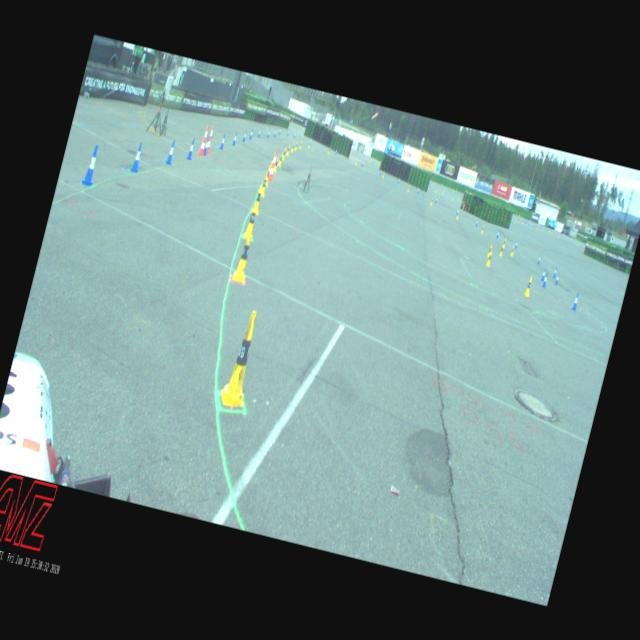blue_cone: (82, 144, 102, 186), (130, 142, 144, 172), (164, 140, 177, 164), (186, 137, 196, 159), (571, 292, 580, 310), (202, 138, 210, 155), (219, 133, 226, 149), (542, 272, 548, 288), (232, 131, 238, 146), (540, 267, 546, 280), (242, 129, 248, 141), (552, 266, 558, 278), (554, 272, 560, 284), (248, 128, 254, 140), (257, 128, 262, 138), (266, 128, 271, 137), (536, 254, 540, 264), (514, 240, 518, 249), (272, 128, 276, 136), (474, 218, 478, 226), (495, 230, 499, 238), (434, 196, 438, 204), (278, 127, 282, 134), (455, 208, 459, 215), (416, 186, 419, 194), (286, 128, 289, 136), (334, 148, 338, 154), (397, 176, 400, 184), (361, 160, 364, 167), (309, 137, 312, 144), (379, 168, 382, 174), (294, 130, 296, 138)
large_orange_cone: (197, 125, 210, 155), (267, 150, 279, 180), (206, 125, 216, 154)
yellow_cone: (218, 307, 266, 408), (232, 228, 256, 283), (242, 201, 260, 239), (250, 182, 264, 214), (260, 172, 270, 196), (524, 274, 534, 296), (264, 164, 272, 184), (486, 250, 492, 266), (278, 152, 284, 166), (273, 158, 279, 172), (486, 244, 492, 257), (498, 244, 504, 256), (281, 148, 286, 160), (286, 144, 290, 156), (290, 142, 294, 152), (480, 224, 484, 234), (510, 246, 514, 256), (429, 197, 433, 206), (298, 140, 302, 149), (381, 170, 385, 179), (502, 238, 506, 247), (294, 142, 298, 150), (354, 158, 358, 166), (455, 210, 459, 218), (307, 140, 311, 148), (406, 184, 409, 192), (328, 146, 330, 154)
